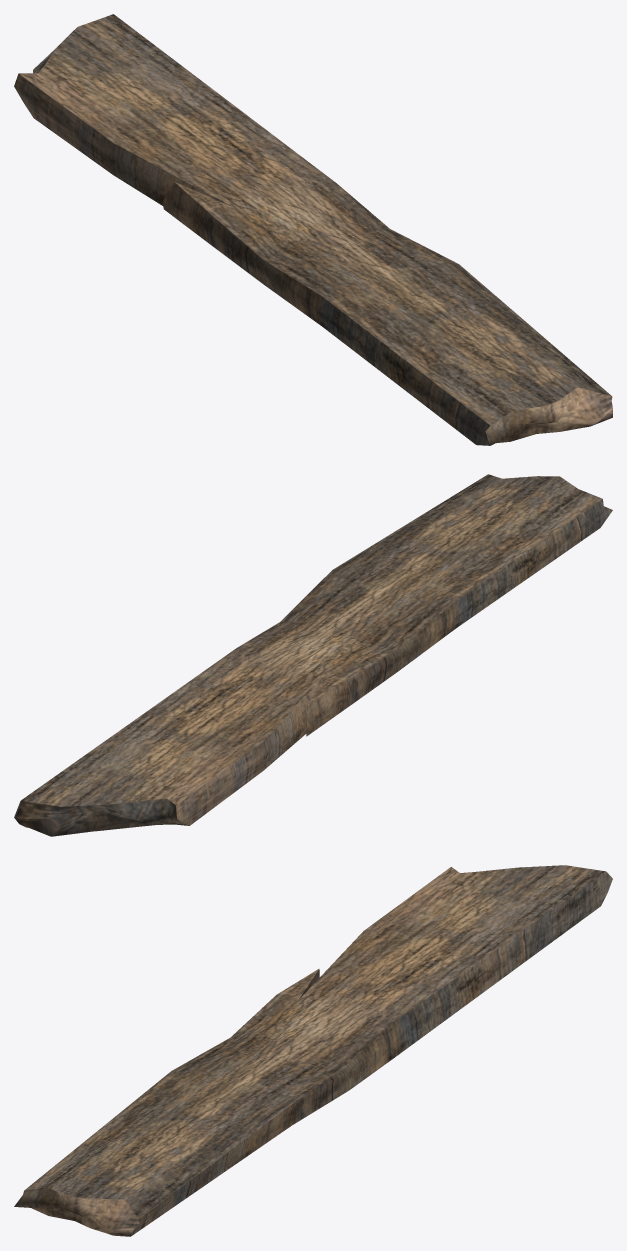
File: fbx_Wood_03.fbx
3 views of the same model, one above another, from view 1: azimuth 30°, elevation 25°; view 2: azimuth 150°, elevation 25°; view 3: azimuth 330°, elevation 25° (orthographic). The views are drawn at different scales.
Parts seen in each view (by area): view 1: plank_04; view 2: plank_04; view 3: plank_04.
Boxes of the visible parts, <box> form: plank_04: <box>14,14,612,445</box>; plank_04: <box>14,474,612,836</box>; plank_04: <box>14,865,612,1236</box>.
Size of the model in its own units: 0.00831 by 0.00198 by 0.0544.
